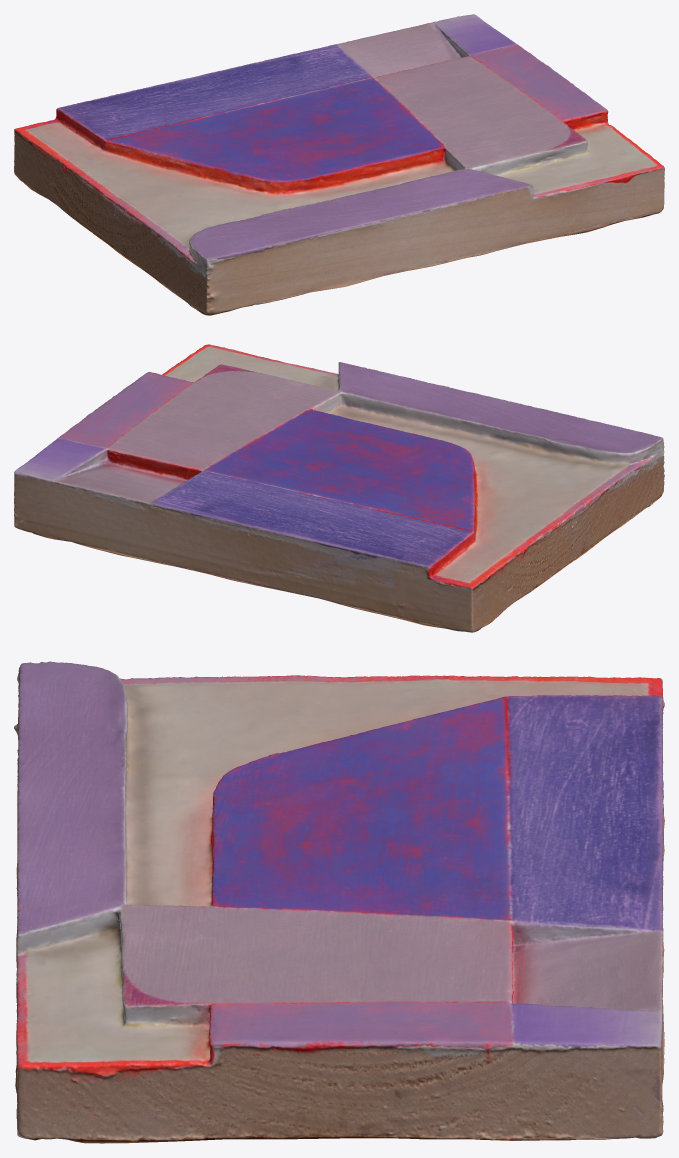
File: Objekt1_demo.glb
3 views of the same model, one above another, from view 1: azimuth 30°, elevation 25°; view 2: azimuth 150°, elevation 25°; view 3: azimuth 270°, elevation 25° (orthographic). The views are drawn at different scales.
Visible parts, largest first — view 1: model; view 2: model; view 3: model.
Boxes of the visible parts, box(x1,y1,x2,y2) form: model: box(14, 14, 664, 315); model: box(14, 344, 664, 632); model: box(14, 661, 664, 1143).
Bounding box in the file's own units: 0.3618 × 0.0512 × 0.2645.
1 material, 1 textured.
